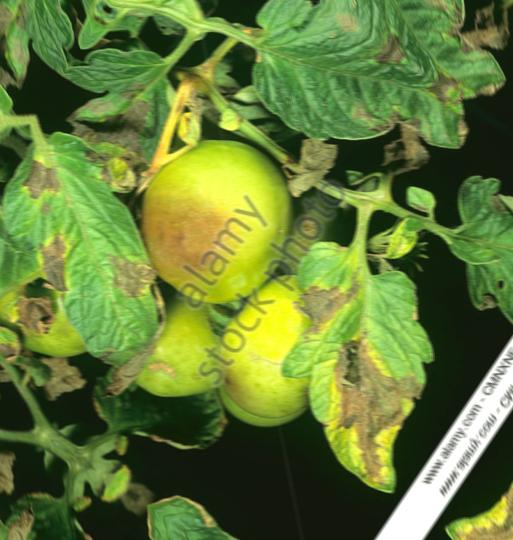Tomato leaf late blight: (222, 213, 510, 504), (0, 108, 235, 385), (198, 0, 490, 222)
